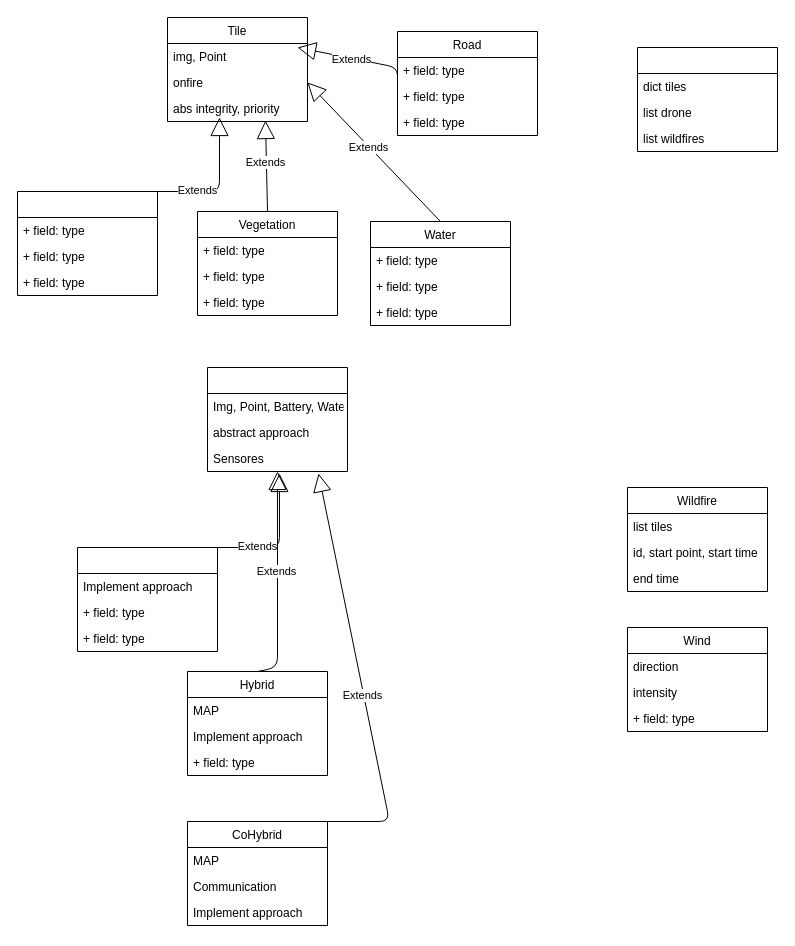
Image size: 795x946. Some labels were removed from this diagram. The box of each missing label's shape, as (x1, y1, x2, y2) in pixels:
Drone: (206, 366, 348, 472)
Pop: (16, 190, 158, 296)
Reactive: (76, 546, 218, 652)
Simulation: (636, 46, 778, 152)
